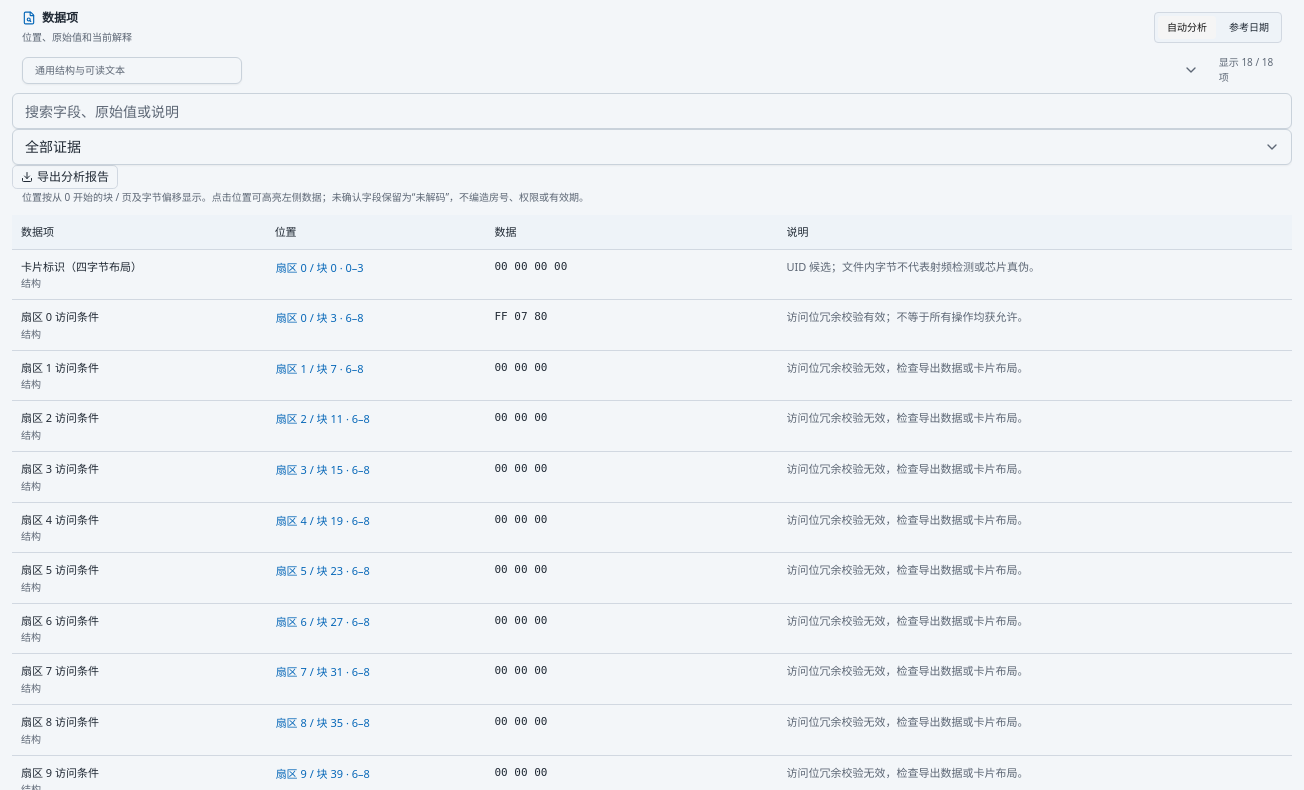
Scenario: downloads a local analysis report and releases its object URL
Step 1. Click the button "导出分析报告" → (65, 177), box [12,165,118,189]
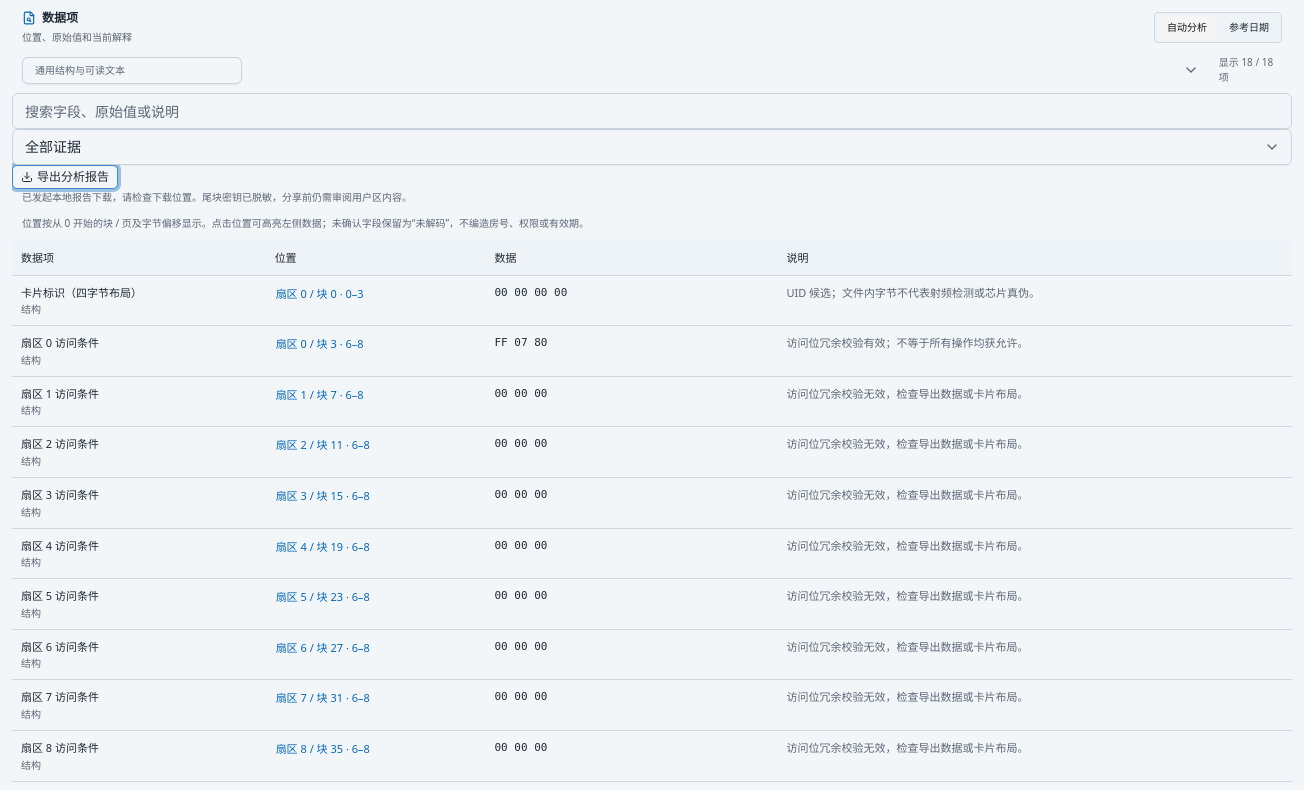
Expected: the message named "报告导出状态" shows "已发起", [22,190,412,204]
